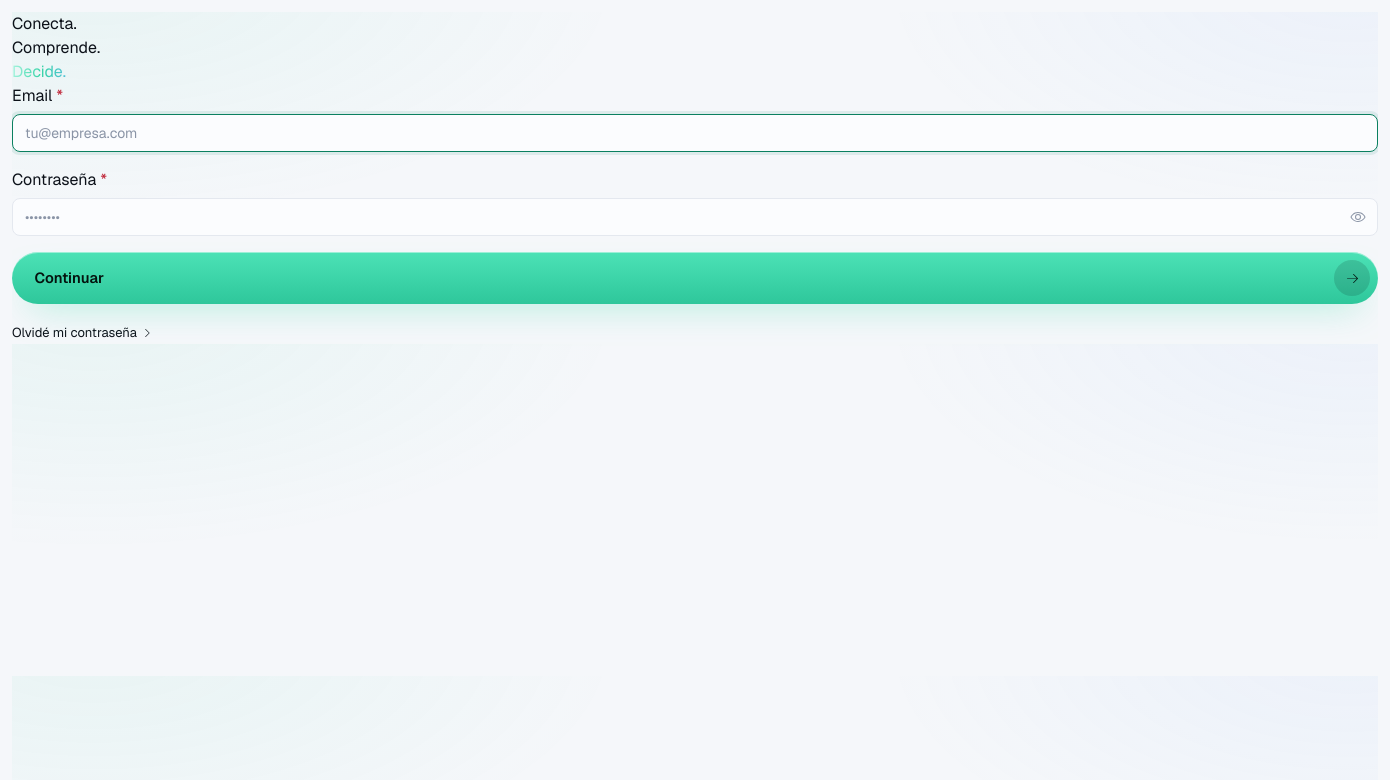
Test: login › pide el email antes de mandar el enlace
What coordinates should you click on to do the following:
click the button "Olvidé mi contraseña"
I would click on:
 (82, 333)
Its box is [12,323,153,342].
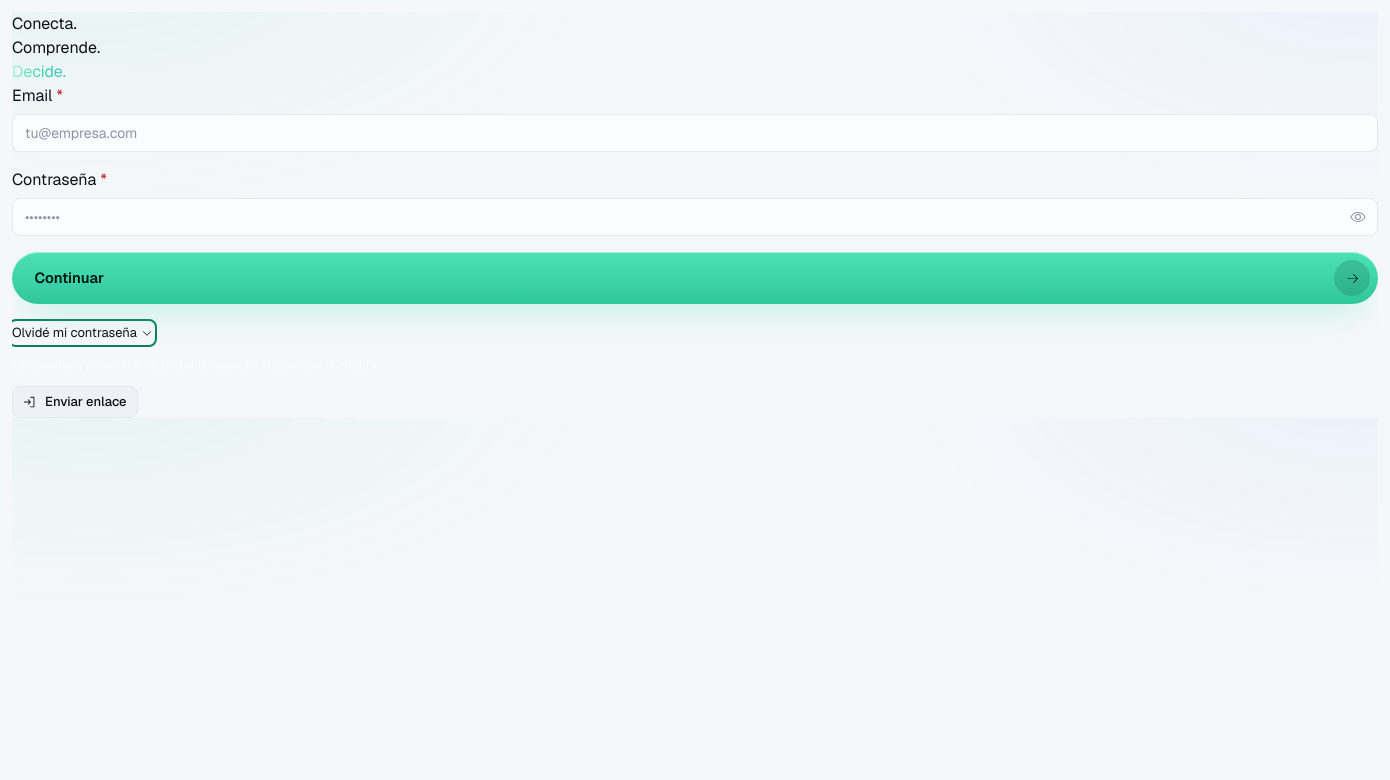
What coordinates should you click on to do the following:
click the button "Enviar enlace"
I would click on:
 (75, 402)
Its box is [12,386,138,418].
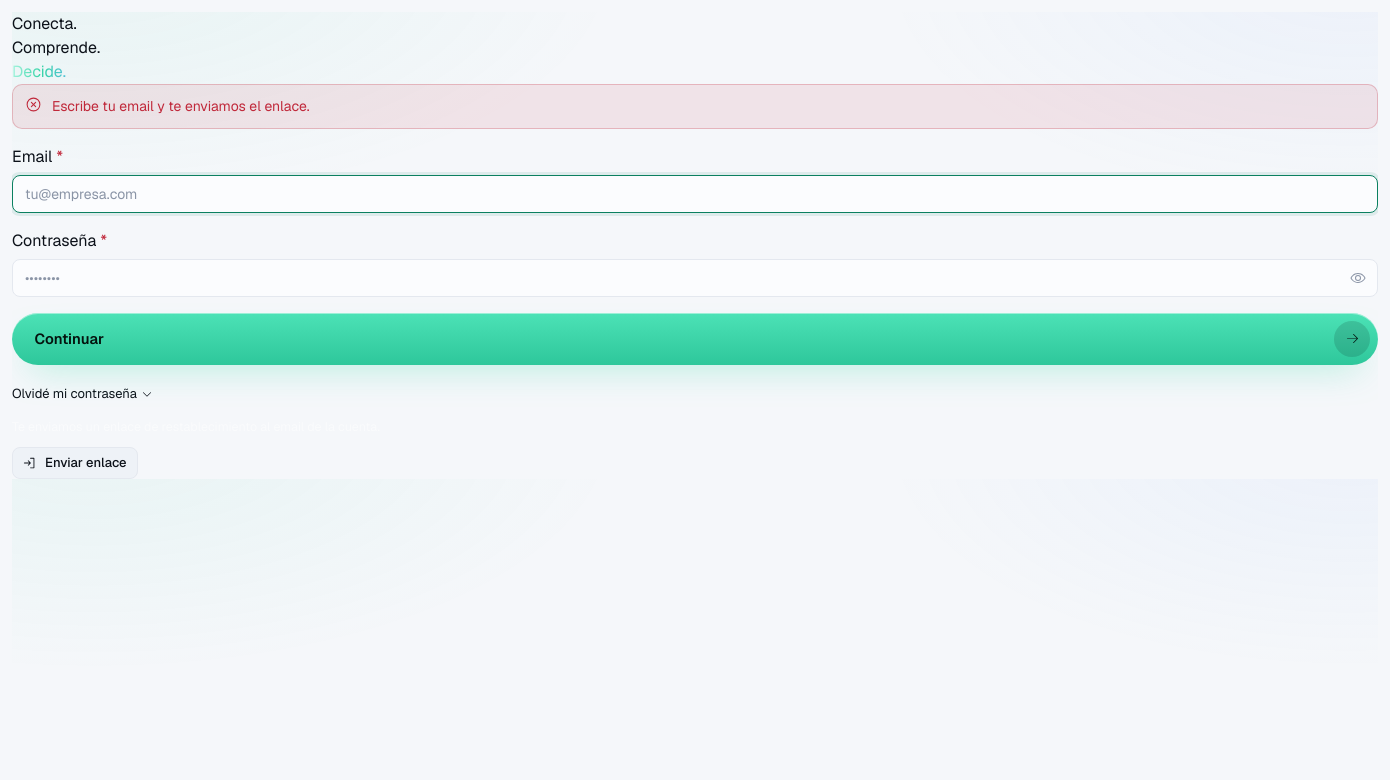
Expected: the message reads "Escribe tu email y te enviamos el enlace.", [52,97,310,115]
